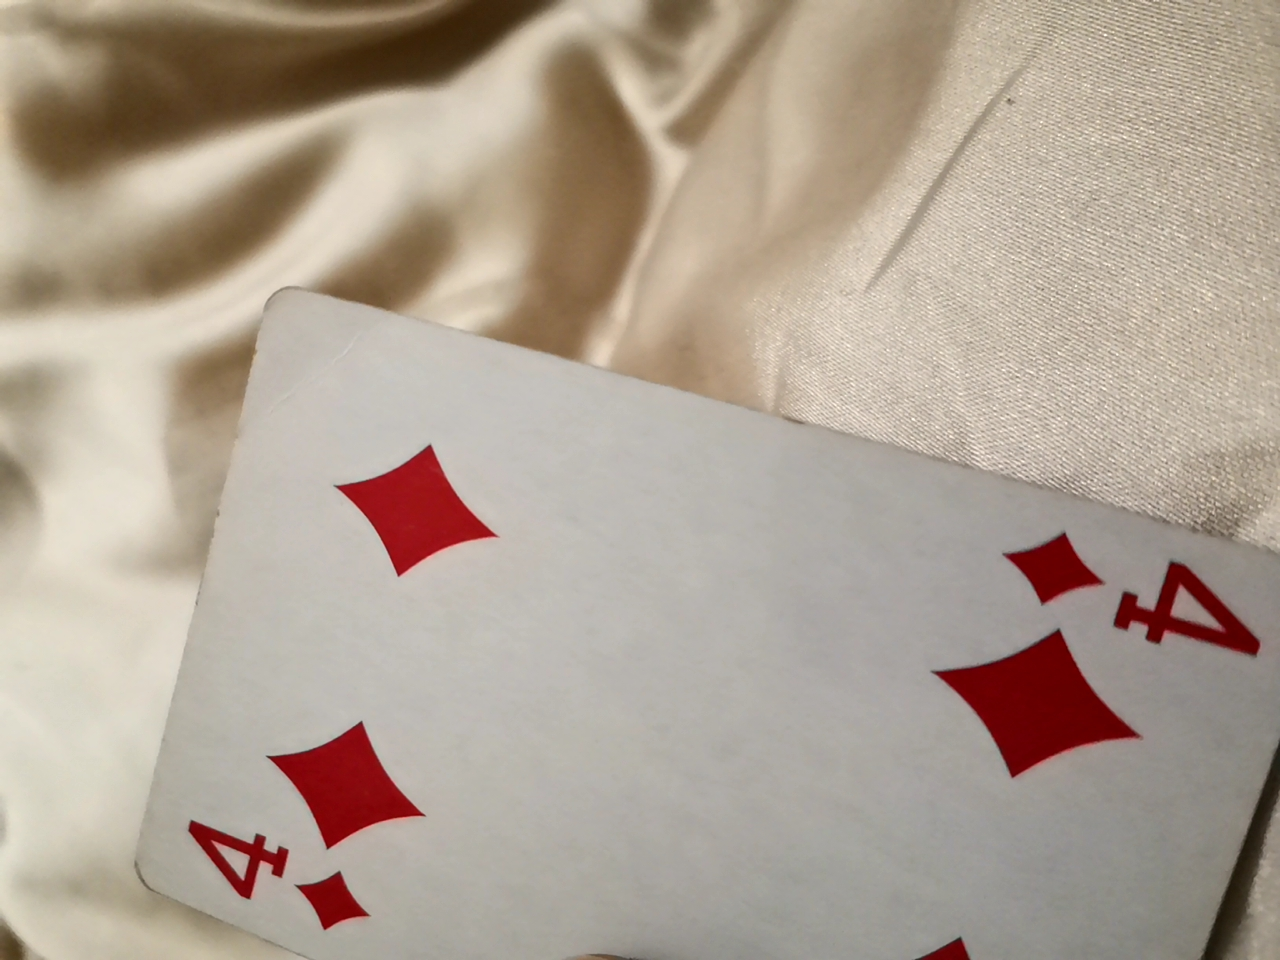fk 4: (139, 315, 1266, 951)
